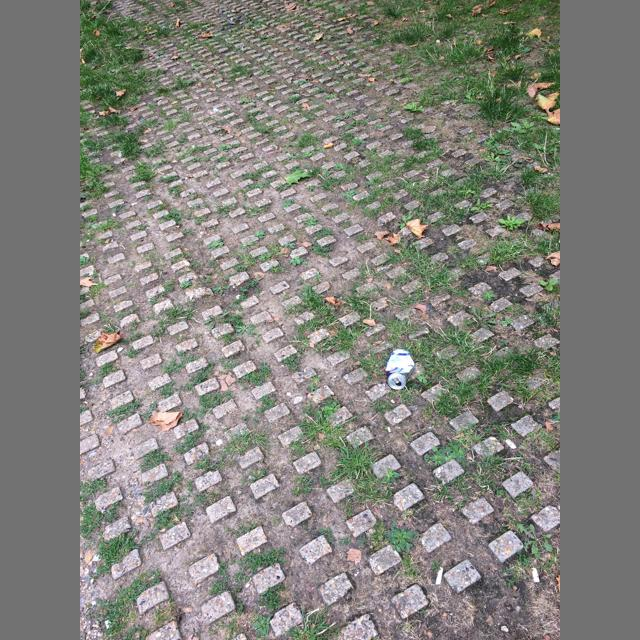litter: (385, 349, 415, 390), (392, 377, 400, 383)
